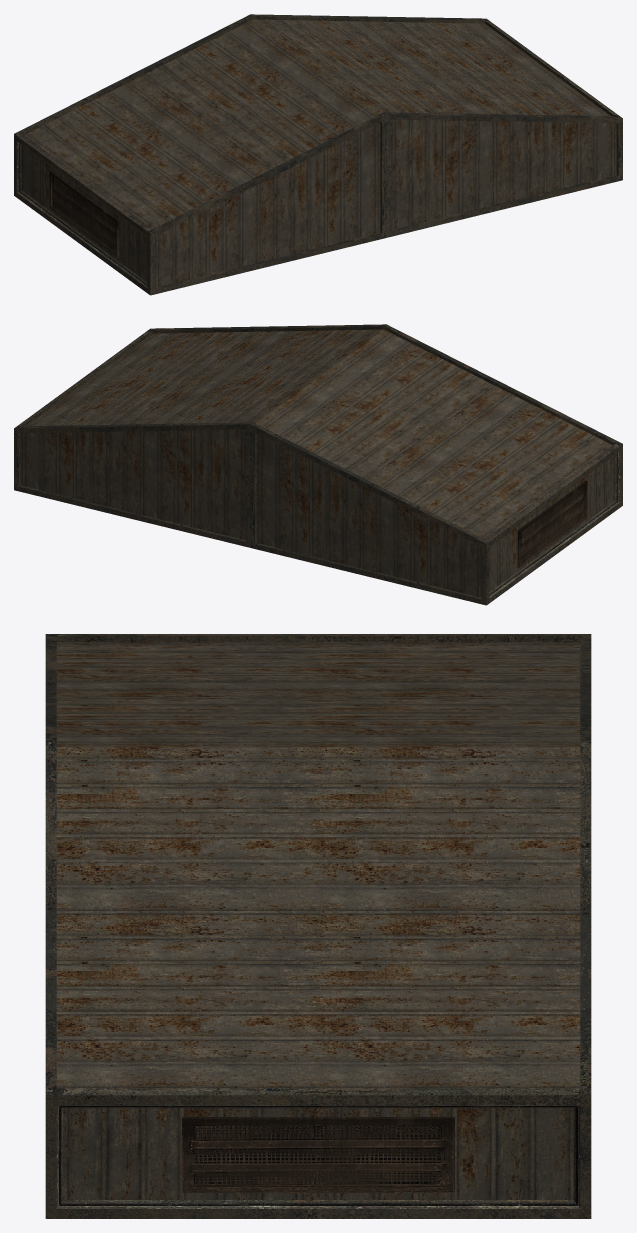
File: roof_mh_4_b_1.glb
3 renders of one model, top to bottom at view 1: azimuth 30°, elevation 25°; view 2: azimuth 150°, elevation 25°; view 3: azimuth 270°, elevation 25°, orthographic. The views are drawn at different scales.
Visible parts, largest first — view 1: roof_mh_4_b_1; view 2: roof_mh_4_b_1; view 3: roof_mh_4_b_1.
Boxes of the visible parts, x1,y1,x2,y2 form: roof_mh_4_b_1: (14, 14, 622, 295); roof_mh_4_b_1: (14, 324, 622, 605); roof_mh_4_b_1: (45, 634, 591, 1218).
Size of the model in its own units: 8 by 2 by 4.
Materials: 6 (6 with a texture image).
